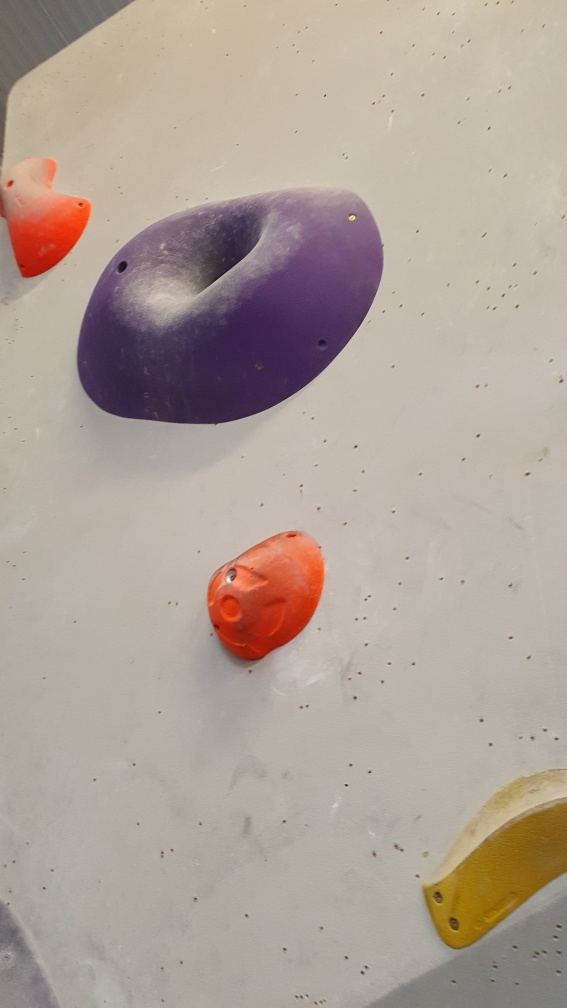Pinch: (1, 153, 90, 281)
Pocket: (74, 187, 387, 428)
